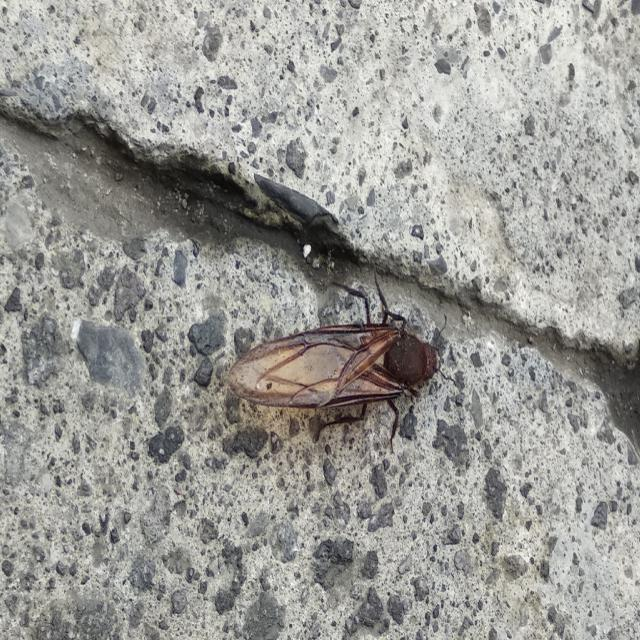Alive-Female-Alate: (228, 266, 457, 454)
